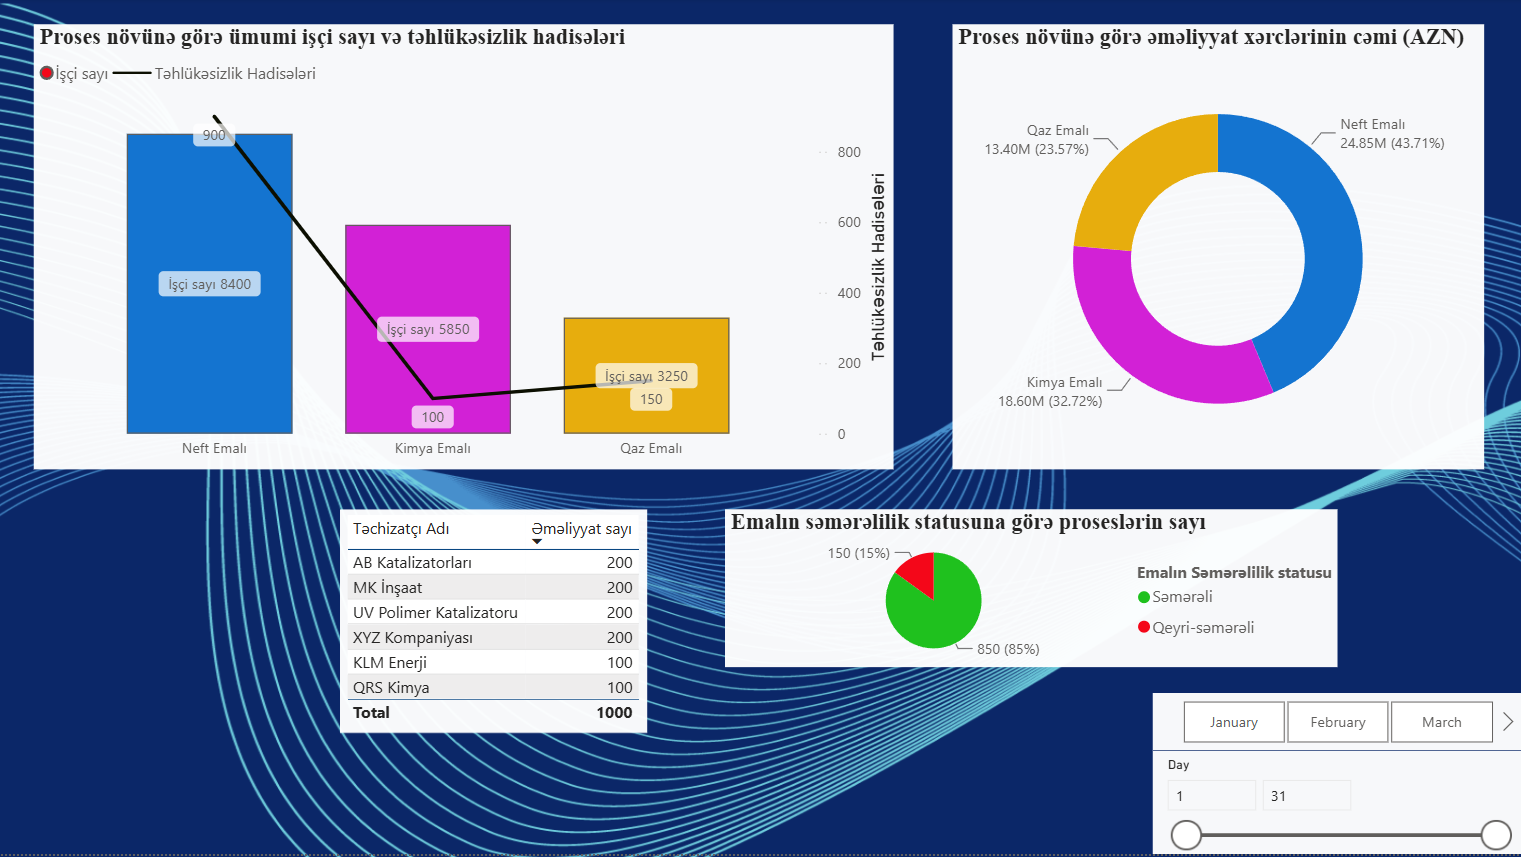

Layout of this report page (visuals, bound fields, positions):
{"tool":"powerbi","page":{"name":"Page 2","canvas":[1280,720],"ordinal":1},"visuals":[{"type":"lineClusteredColumnComboChart","title":"Proses növünə görə ümumi işçi sayı və təhlükəsizlik hadisələri","fields":{"Category":["Dim_Proses_Tipi.Proses Tipi"],"Y2":["Sum(DATA.Təhlükəsizlik Hadisələri)"],"Y":["Sum(DATA.İşçi Sayı)"]},"box":[28.4,22.1,723.4,374.3],"z":0},{"type":"donutChart","title":"Proses növünə görə əməliyyat xərclərinin cəmi (AZN)","fields":{"Category":["Dim_Proses_Tipi.Proses Tipi"],"Y":["Sum(DATA.Əməliyyat Xərcləri (AZN))"]},"box":[801.2,22.1,446.8,374.3],"z":2000},{"type":"tableEx","fields":{"Values":["Dim_Techizatci.Təchizatçı Adı","DATA.Total_Transactions"]},"box":[286.2,429.8,258.7,188],"z":3000},{"type":"slicer","fields":{"Values":["DATA.Prosesin Başlama Tarixi.Variation.Date Hierarchy.Month"]},"box":[969.4,584.6,310.2,48.4],"z":4000},{"type":"slicer","fields":{"Values":["DATA.Prosesin Başlama Tarixi.Variation.Date Hierarchy.Day"]},"box":[969.4,632.9,310.2,87.3],"z":5000},{"type":"pieChart","title":"Emalın səmərəlilik statusuna görə proseslərin sayı","fields":{"Category":["DATA.Emalın Səmərəlilik statusu"],"Y":["CountNonNull(DATA.Proses ID)"]},"box":[609.4,429.8,515.4,133.1],"z":6000}]}

Visuals, with their boxes in screenshot pixels (x1, y1, x2, y2), scaled from the page's 1280x720 canvas onto the 1521x857 screenshot:
"Proses növünə görə ümumi işçi sayı və təhlükəsizlik hadisələri" lineClusteredColumnComboChart: [34, 26, 893, 472]
"Proses növünə görə əməliyyat xərclərinin cəmi (AZN)" donutChart: [952, 26, 1483, 472]
tableEx - Dim_Techizatci.Təchizatçı Adı x DATA.Total_Transactions: [340, 512, 647, 735]
slicer - DATA.Prosesin Başlama Tarixi.Variation.Date Hierarchy.Month: [1152, 696, 1520, 753]
slicer - DATA.Prosesin Başlama Tarixi.Variation.Date Hierarchy.Day: [1152, 753, 1520, 856]
"Emalın səmərəlilik statusuna görə proseslərin sayı" pieChart: [724, 512, 1337, 670]
